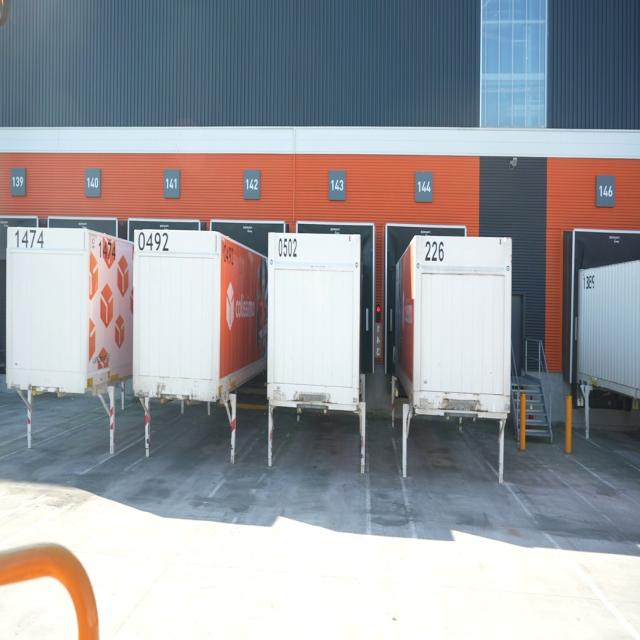Code: (10, 226, 50, 254), (135, 227, 171, 257), (274, 234, 300, 264), (423, 236, 446, 268), (96, 237, 118, 263)
